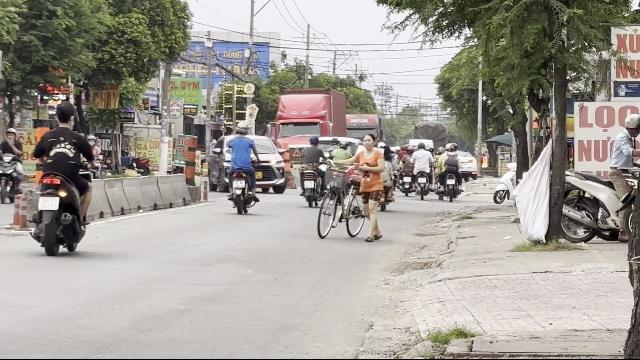licenseplate: (38, 196, 58, 210)
motorcyclist: (29, 100, 95, 256)
nohelmet: (53, 102, 77, 126)
